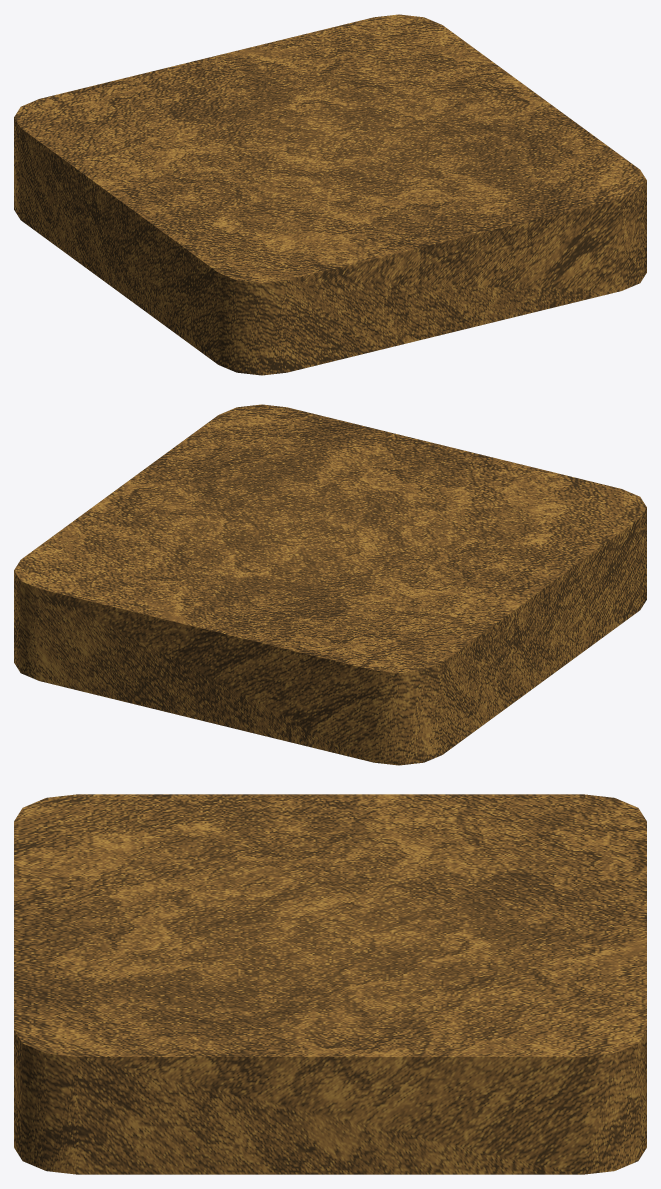
The model's file is rockTileFBX.fbx.
3 views of the same model, one above another, from view 1: azimuth 30°, elevation 25°; view 2: azimuth 150°, elevation 25°; view 3: azimuth 270°, elevation 25° (orthographic). The views are drawn at different scales.
Visible parts, largest first — view 1: flat_tile:pCube1; view 2: flat_tile:pCube1; view 3: flat_tile:pCube1.
Boxes of the visible parts, x1,y1,x2,y2 form: flat_tile:pCube1: (14,14,646,375); flat_tile:pCube1: (14,404,646,765); flat_tile:pCube1: (14,794,646,1174).
Bounding box in the file's own units: 2 × 0.4186 × 2.04.
1 material, 1 textured.
